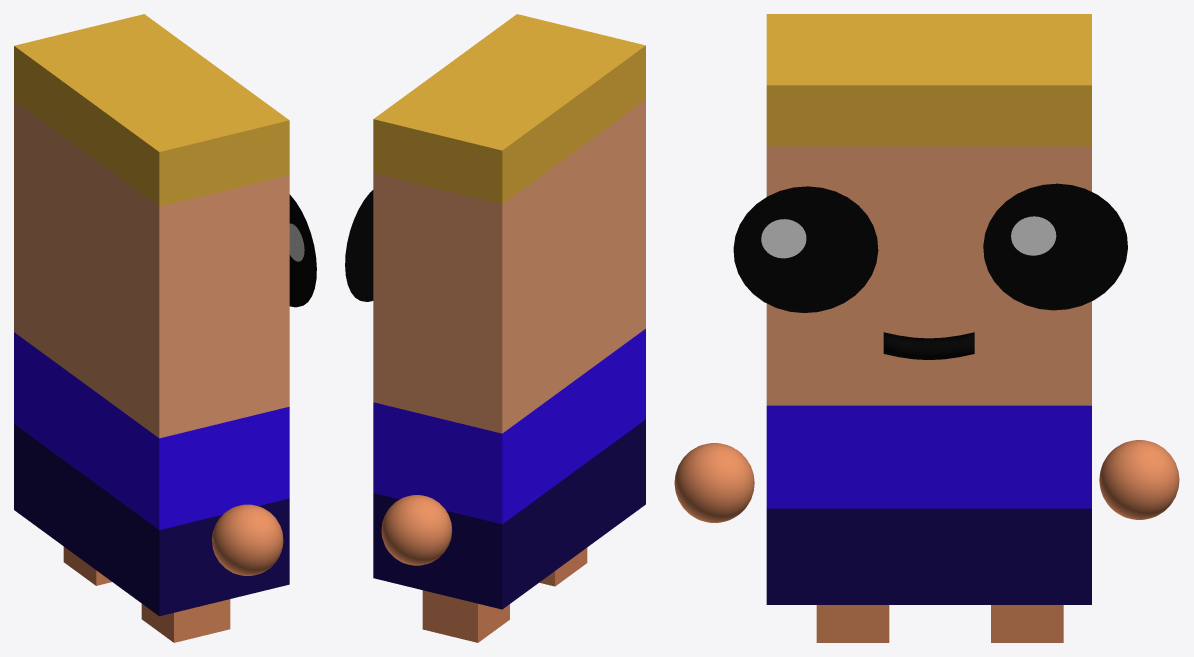
File: alex.fbx
3 renders of one model, left to right at view 1: azimuth 30°, elevation 25°; view 2: azimuth 150°, elevation 25°; view 3: azimuth 270°, elevation 25°, orthographic. The views are drawn at different scales.
Visible parts, largest first — view 1: Cylinder.001; view 2: Cylinder.001; view 3: Cylinder.001.
Part boxes in pixels (x1,y1,x2,y2): Cylinder.001: (14,14,316,642); Cylinder.001: (345,14,645,642); Cylinder.001: (674,14,1179,642).
Bounding box in the file's own units: 12.6 × 40.98 × 32.45.
